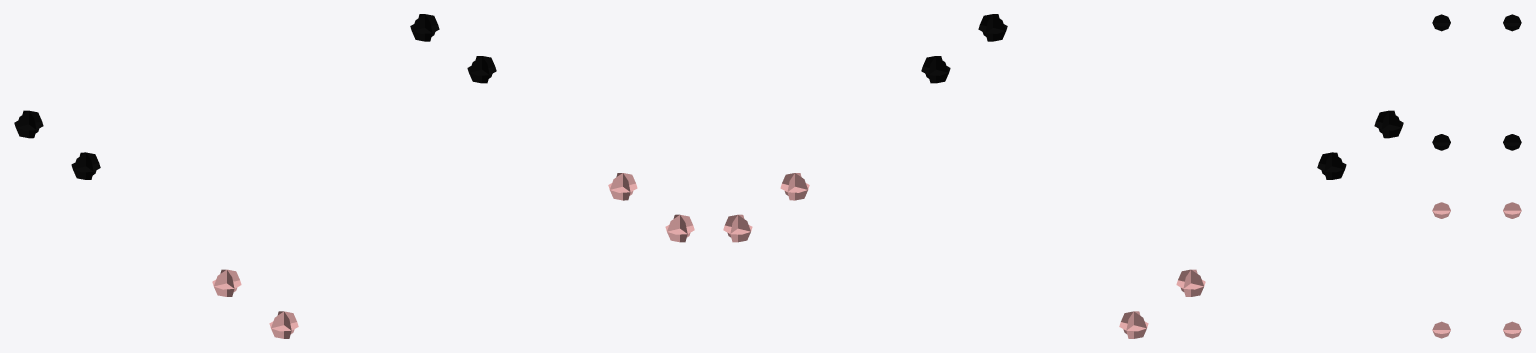
The model's file is matchgraph_d=3_rounds=1_p=0.01.gltf.
3 renders of one model, left to right at view 1: azimuth 30°, elevation 25°; view 2: azimuth 150°, elevation 25°; view 3: azimuth 270°, elevation 25°, orthographic. The views are drawn at different scales.
Bounding box in the file's own units: 18.8 × 6.8 × 3.8.
